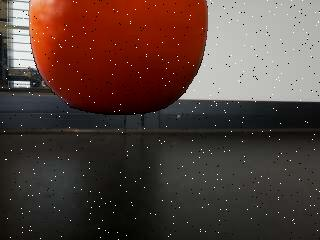Orange: (28, 0, 208, 115)
